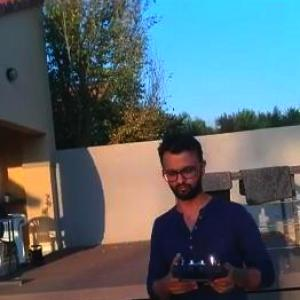follow: (141, 121, 285, 299)
